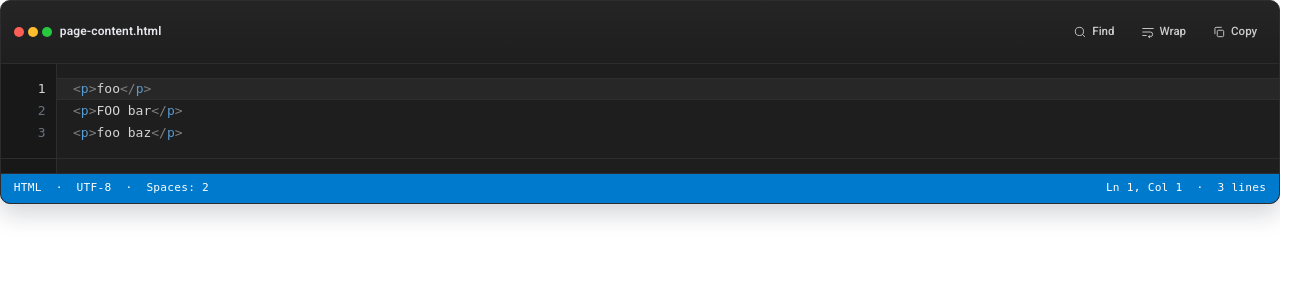
Test: HtmlCodeEditor › opens the Find bar with Ctrl+F and cycles through matches
Type keys "{Control>}f{/Control}"
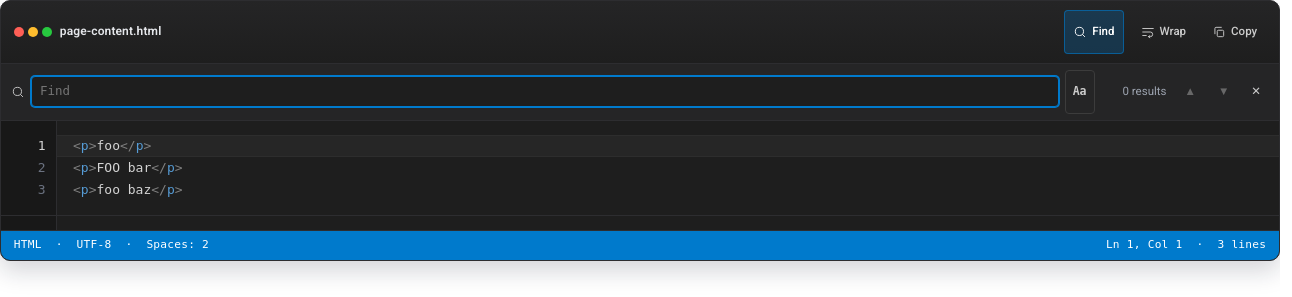
expect the element with test id "html-code-editor-find" is shown: met, box 1,64 -> 1279,121
Type "foo" into the field named "Find text in editor" at (545, 92), box 31,76 -> 1059,107
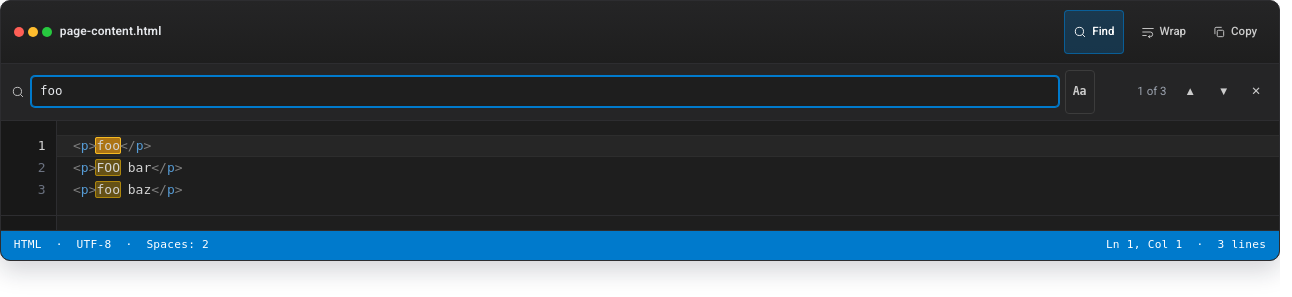
expect the element with test id "html-code-editor-find" shows "1 of 3": met, box 1137,84 -> 1166,98
Press Enter
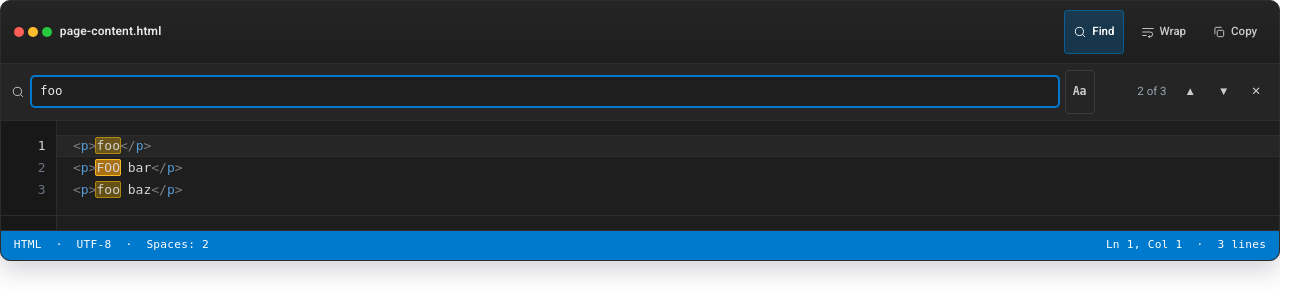
expect the element with test id "html-code-editor-find" shows "2 of 3": met, box 1137,84 -> 1166,98
Type keys "{Shift>}{Enter}{/Shift}"
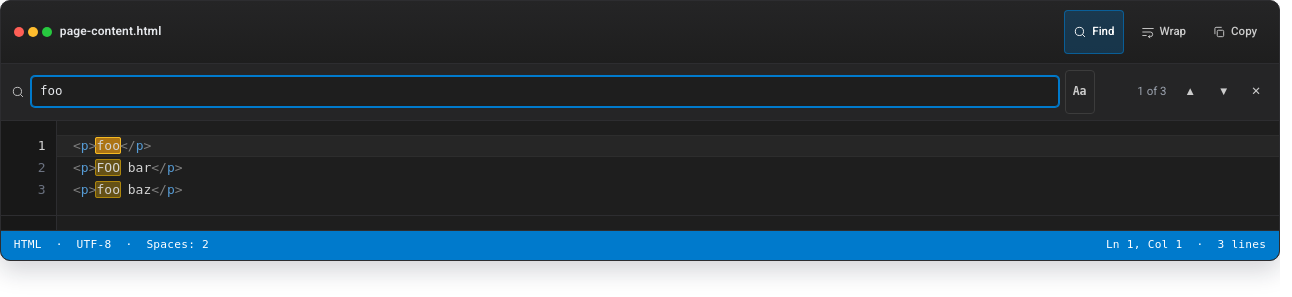
expect the element with test id "html-code-editor-find" shows "1 of 3": met, box 1137,84 -> 1166,98
# Esc closes the bar
Press Escape
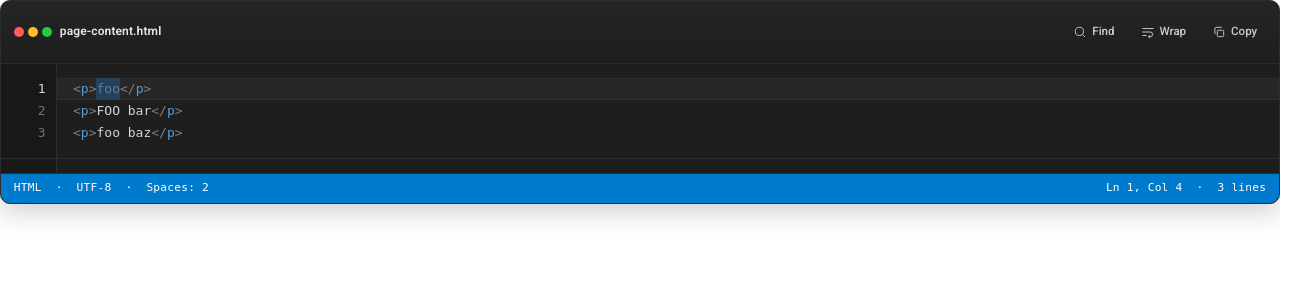
expect the element with test id "html-code-editor-find" is gone: met
